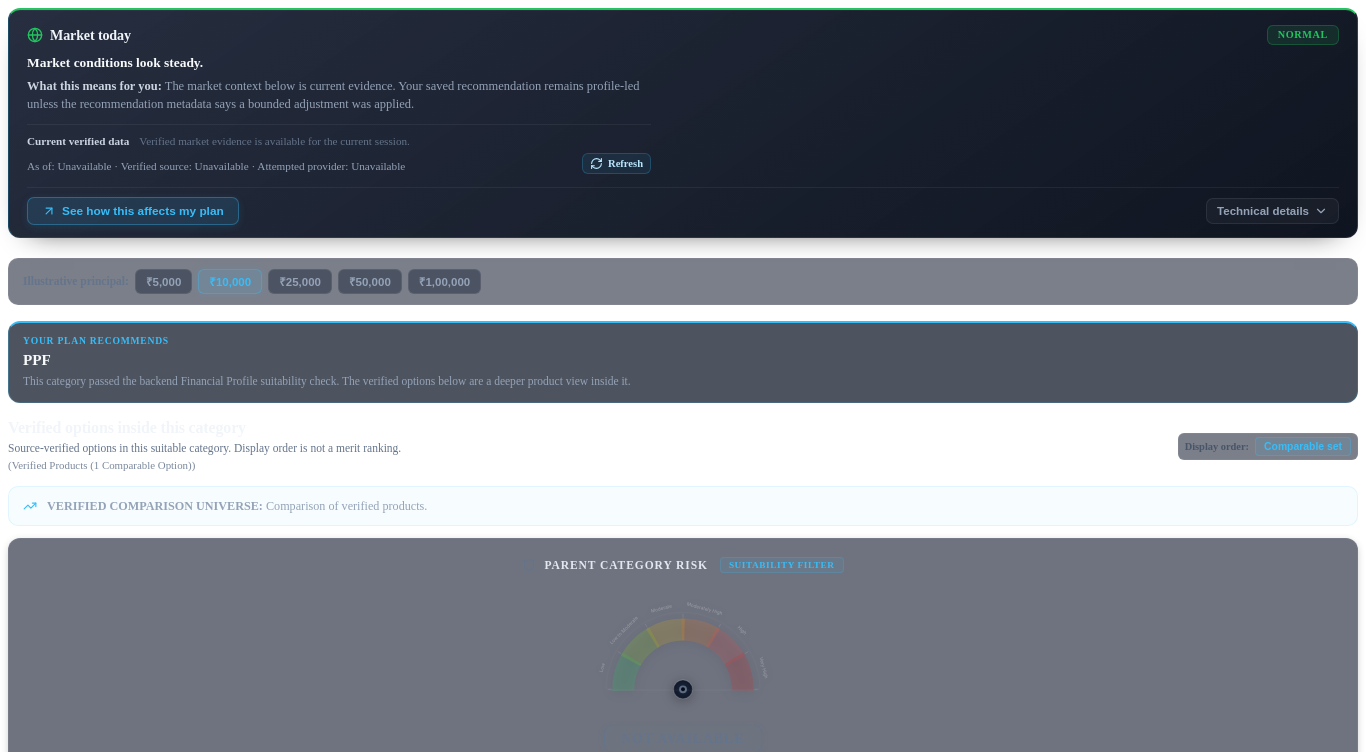
Beginner-First Where-To-Invest UX › marks retained market facts previous after a failed provider refresh and never invents risk for null
Check: the text "Current verified data" is shown, box [27, 133, 129, 149]
Click the button with aria-label "Refresh market data" at coordinates (616, 164), box [582, 153, 651, 174]
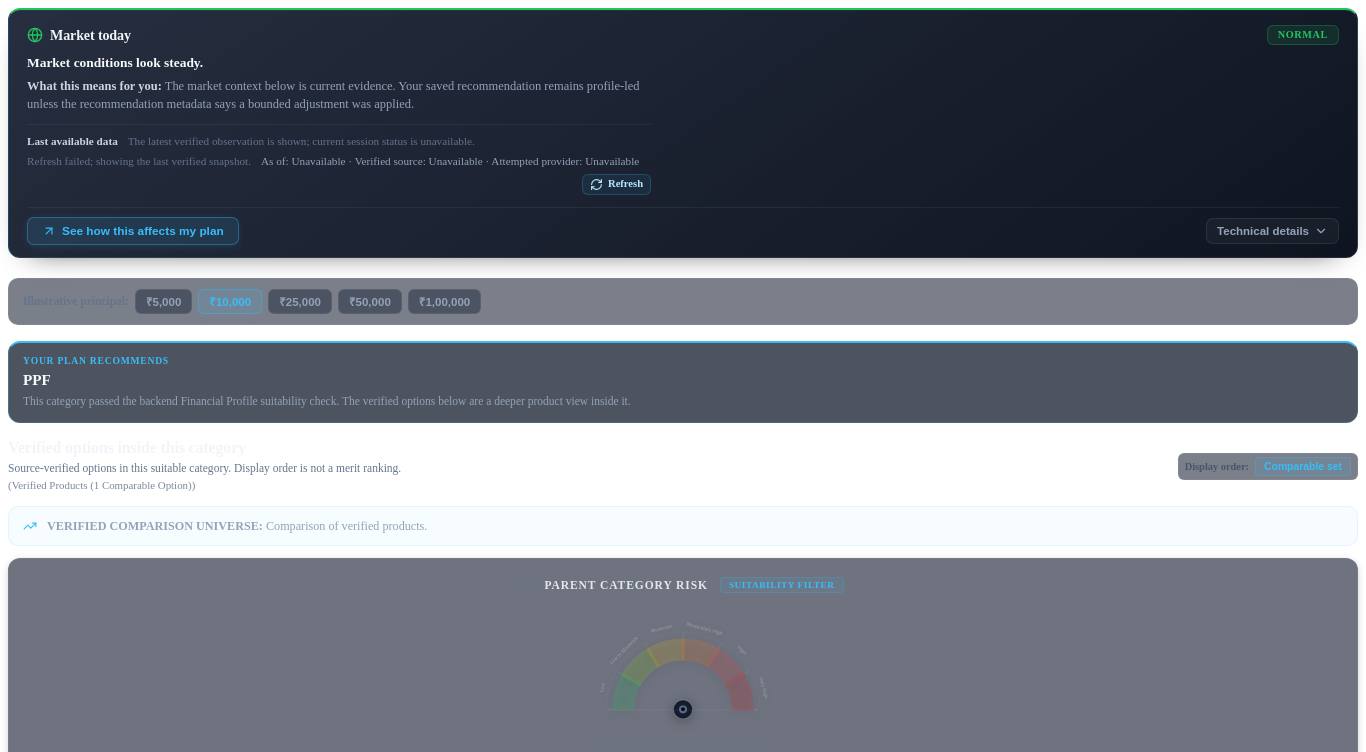
Check: the text "Last available data" is shown, box [27, 133, 118, 149]
Check: the text "Current verified data" is gone
Check: the text "Refresh failed; showing the last verified snapshot." is shown, box [27, 153, 251, 170]
